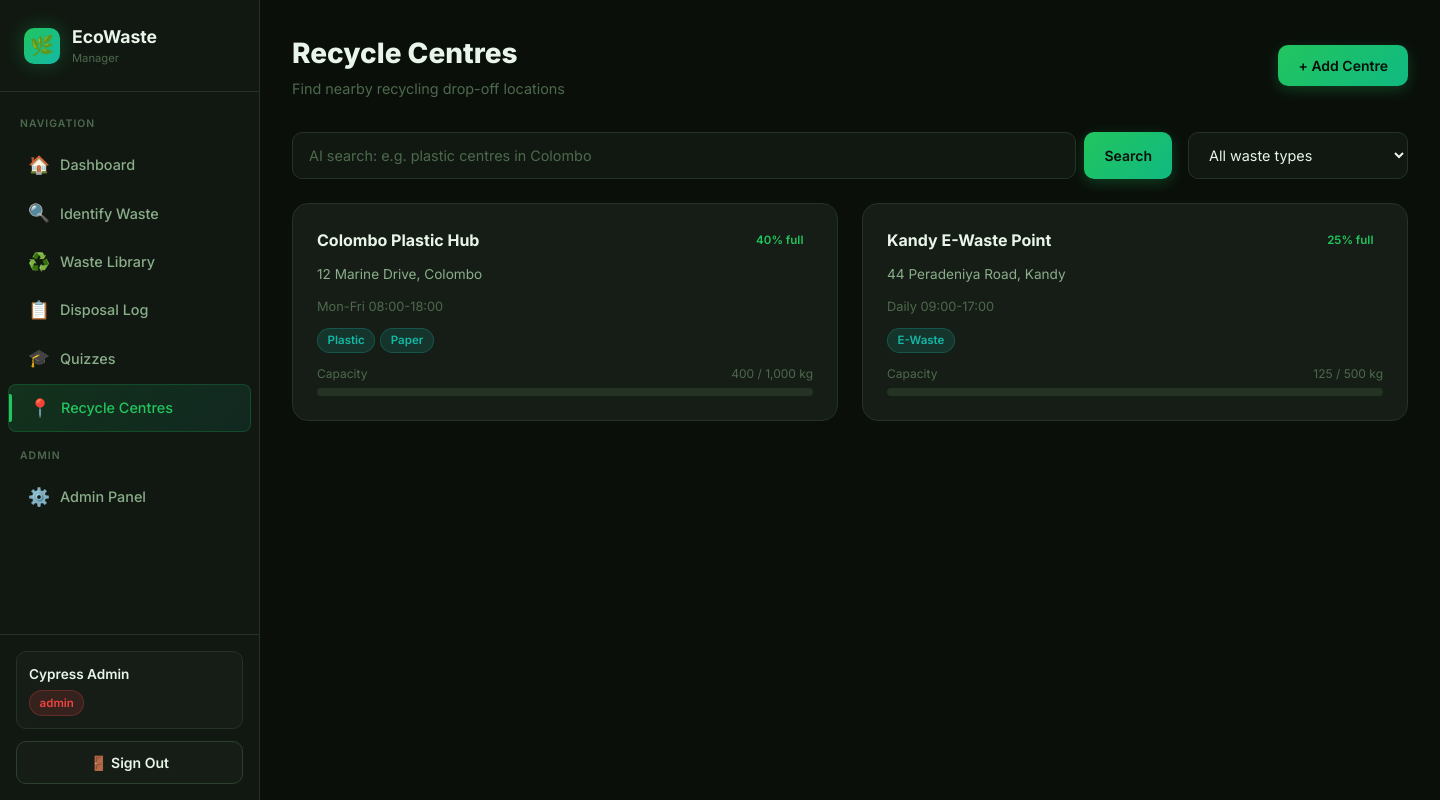
Test: Recycle centres module › filters centres by waste type
Select "Plastic" in the dropdown at (1298, 156), box [1188, 132, 1408, 180]
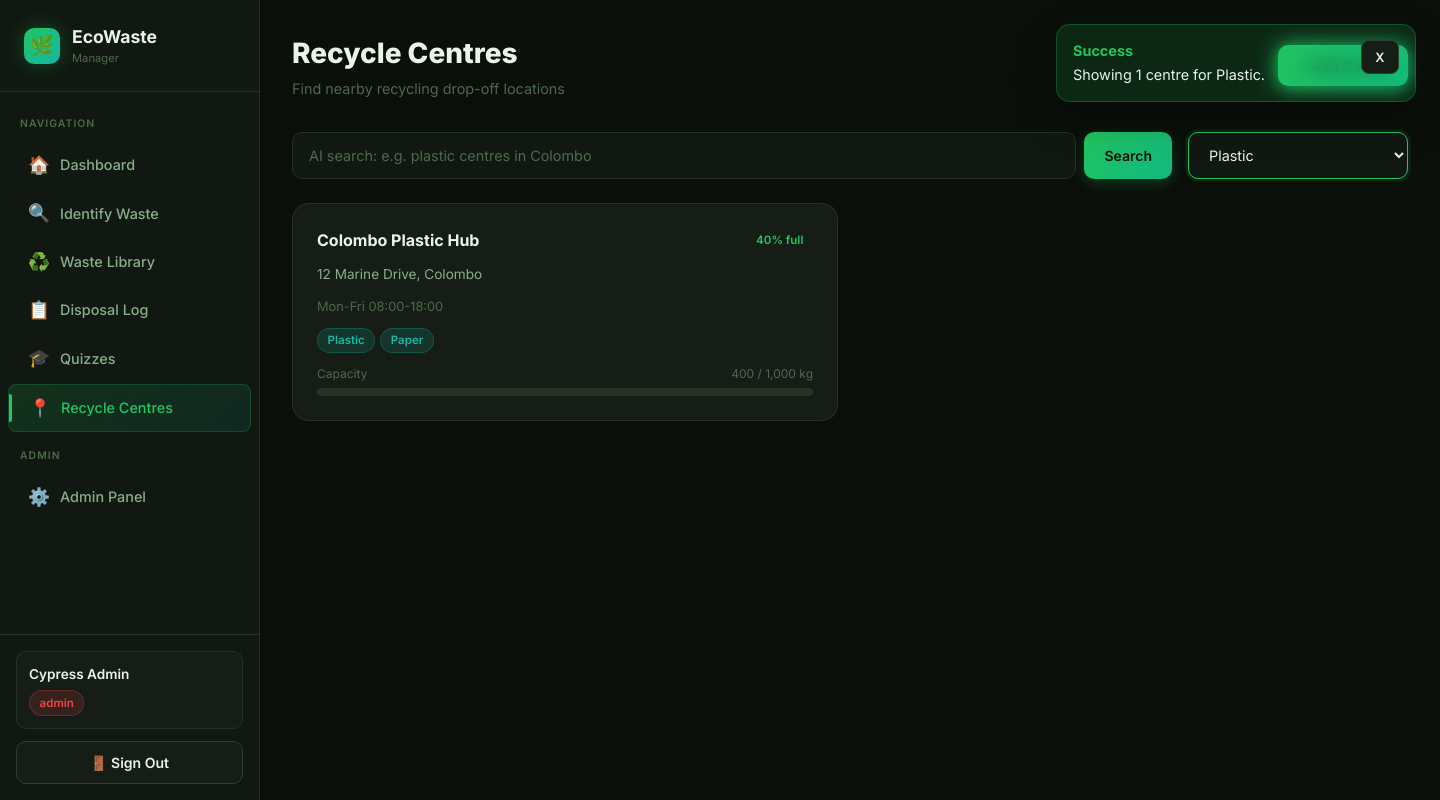
expect the heading "Colombo Plastic Hub" is shown: met, box [317, 228, 479, 252]
expect the heading "Kandy E-Waste Point" is gone: met
